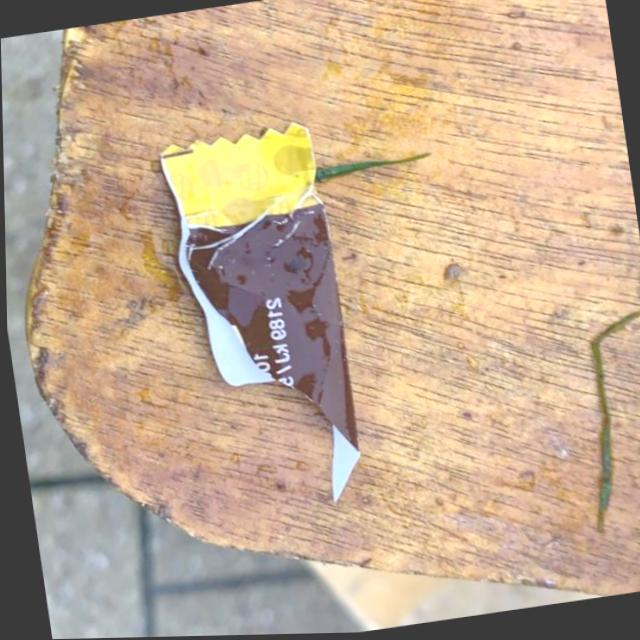Plastic: (149, 118, 374, 527)
